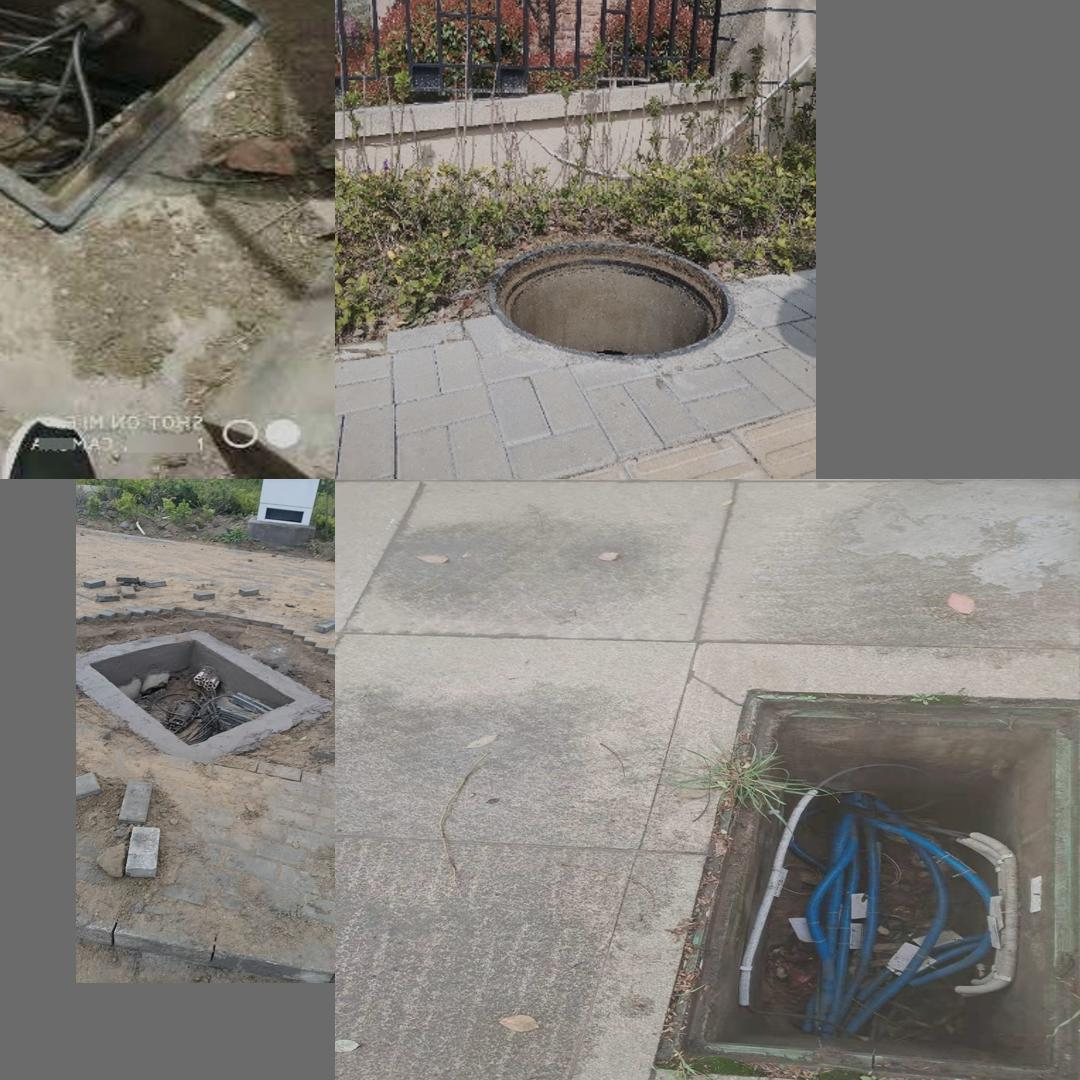lose: (666, 690, 1080, 1080), (0, 0, 267, 234), (76, 611, 330, 771), (492, 239, 735, 360)
